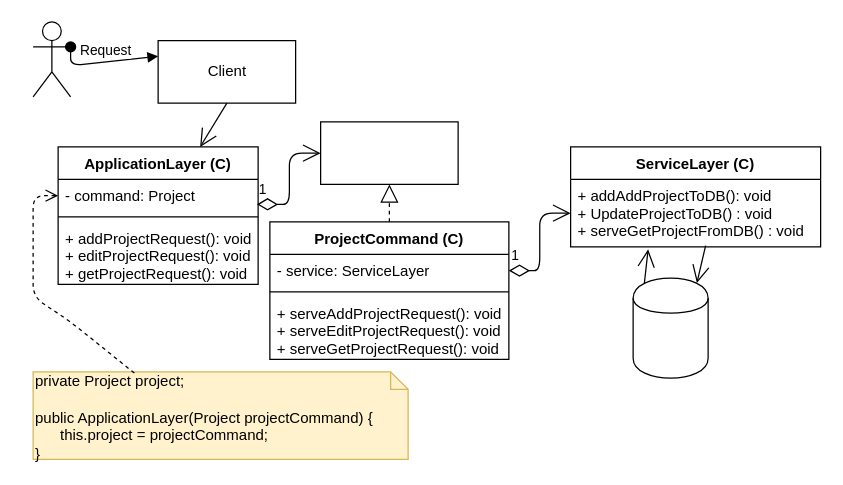
Some shapes in this 843 by 485 pixel diagram are drawn without their labels. The centre of each missing label's shape, as x and y in pixels:
"Actor" goes at point 51,59.
"Database" goes at point 670,327.
"«interface» Project" goes at point 388,152.
